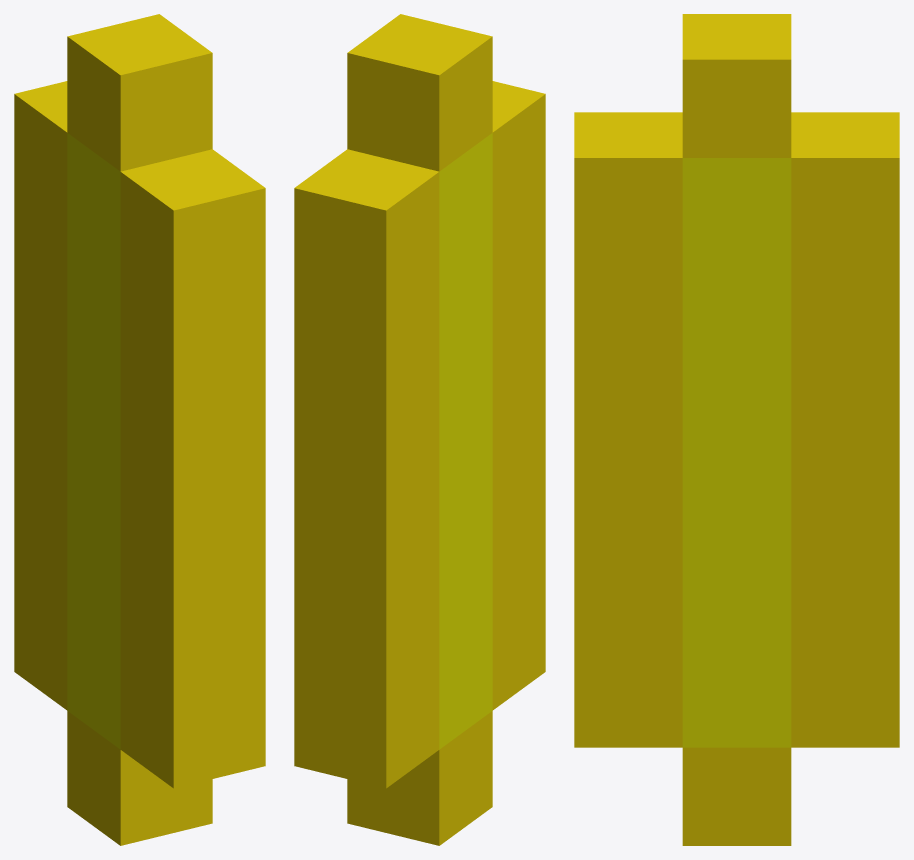
File: AA_Proj_PlayerShipBlaster.fbx
The picture shows the model from 3 angles, left to right: view 1: azimuth 30°, elevation 25°; view 2: azimuth 150°, elevation 25°; view 3: azimuth 270°, elevation 25°; orthographic projection. The views are drawn at different scales.
Parts seen in each view (by area): view 1: Cube.080, Cube.064, Cube.096, Cube.063, Cube.032, Cube.031, Cube.127, Cube.001, Cube.078, Cube.112, Cube.079, Cube.047 (+8 smaller); view 2: Cube.080, Cube.078, Cube.110, Cube.049, Cube.046, Cube.017, Cube.113, Cube.001, Cube.064, Cube.112, Cube.079, Cube.047 (+8 smaller); view 3: Cube.080, Cube.078, Cube.064, Cube.111, Cube.016, Cube.112, Cube.079, Cube.048, Cube.047, Cube.001, Cube.127, Cube.113 (+8 smaller).
Part boxes in pixels (<box>): Cube.080: <box>67,14,212,171</box>; Cube.064: <box>120,149,265,306</box>; Cube.096: <box>120,268,265,402</box>; Cube.063: <box>120,557,265,691</box>; Cube.032: <box>120,461,265,595</box>; Cube.031: <box>120,654,265,788</box>; Cube.127: <box>120,365,265,499</box>; Cube.001: <box>67,711,212,845</box>; Cube.078: <box>14,81,67,228</box>; Cube.112: <box>67,325,120,460</box>; Cube.079: <box>67,133,120,267</box>; Cube.047: <box>67,422,120,556</box>; Cube.080: <box>347,14,492,171</box>; Cube.078: <box>294,149,439,306</box>; Cube.110: <box>294,268,439,402</box>; Cube.049: <box>294,557,439,691</box>; Cube.046: <box>294,461,439,595</box>; Cube.017: <box>294,654,439,788</box>; Cube.113: <box>294,365,439,499</box>; Cube.001: <box>347,711,492,845</box>; Cube.064: <box>492,81,545,228</box>; Cube.112: <box>439,325,492,460</box>; Cube.079: <box>439,133,492,267</box>; Cube.047: <box>439,422,492,556</box>; Cube.080: <box>682,14,791,157</box>; Cube.078: <box>791,112,899,256</box>; Cube.064: <box>574,112,682,256</box>; Cube.111: <box>682,256,791,354</box>; Cube.016: <box>682,649,791,747</box>; Cube.112: <box>682,354,791,452</box>; Cube.079: <box>682,158,791,256</box>; Cube.048: <box>682,551,791,649</box>; Cube.047: <box>682,453,791,551</box>; Cube.001: <box>682,747,791,845</box>; Cube.127: <box>574,354,682,452</box>; Cube.113: <box>791,354,899,452</box>.
Bounding box in the file's own units: 200 × 1600 × 600.
